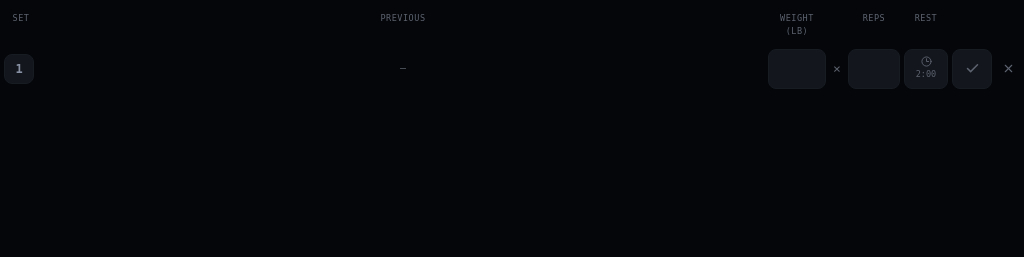
Scenario: SetTable tag menu › does not clip the tag menu behind the row when opened (#1471)
Click the button named "Set 1 — tag". click: (19, 68)
box: [4, 54, 34, 84]
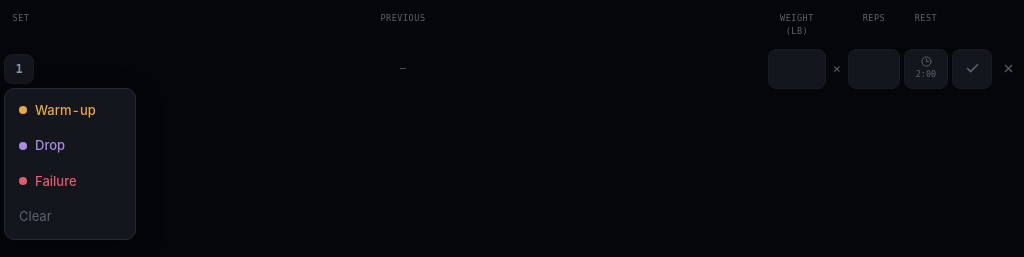
Check: the menu named "Set type" is shown, box [4, 88, 136, 240]
